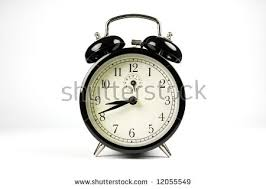alarm_clock: (77, 9, 186, 157)
